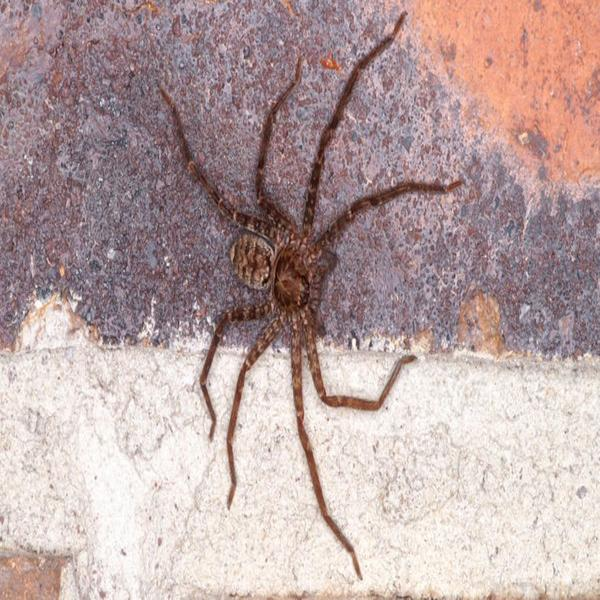Huntsman Spider: (170, 23, 438, 547)
